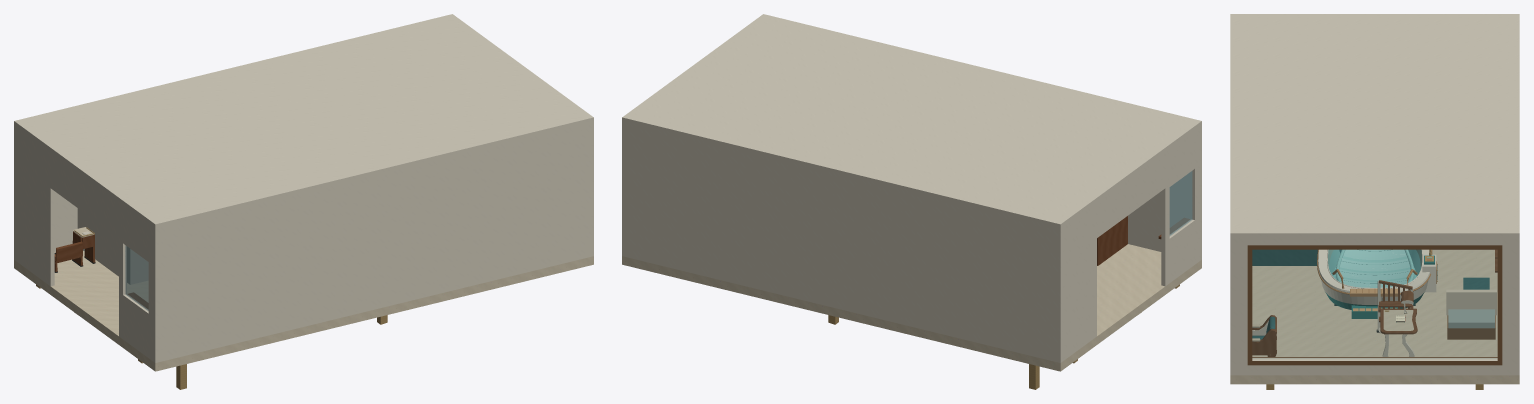
File: NG500_PanoramicSuite_r001.glb
3 views of the same model, side by side, from view 1: azimuth 30°, elevation 25°; view 2: azimuth 150°, elevation 25°; view 3: azimuth 270°, elevation 25° (orthographic). The views are drawn at different scales.
Parts seen in each view (by area): view 1: NG500_RuntimeBatch_001, NG500_RoomFloor, NG500_ScreenedStreetGlass, NG500_RuntimeBatch_013; view 2: NG500_RuntimeBatch_001, NG500_RoomFloor, NG500_ScreenedStreetGlass, NG500_RuntimeBatch_002; view 3: NG500_RuntimeBatch_001, NGP_500_PrivateViewPane, NG500_RoomFloor, NG500_ReservedRestSupport_01__WaterSurface_VisualOnly, NG500_ReservedRestSupport_01__Contoured broad immersed rest , NG500_ReservedRestSupport_01__Hollow continuous basin shell , NGP_500_Frame_Sill, NG500_RuntimeBatch_006, NGP_500_Frame_Head, NGP_500_ViewSeat_Back, NGP_500_ViewSeat_Cushion, NG500_RuntimeBatch_007 (+8 smaller).
Boxes of the visible parts, box(x1,y1,x2,y2) form: NG500_RuntimeBatch_001: box(14, 14, 593, 362); NG500_RoomFloor: box(14, 250, 593, 371); NG500_ScreenedStreetGlass: box(125, 245, 148, 310); NG500_RuntimeBatch_013: box(54, 231, 95, 271); NG500_RuntimeBatch_001: box(622, 14, 1201, 362); NG500_RoomFloor: box(622, 244, 1201, 371); NG500_ScreenedStreetGlass: box(1169, 171, 1192, 235); NG500_RuntimeBatch_002: box(1097, 216, 1190, 265); NG500_RuntimeBatch_001: box(1230, 14, 1519, 375); NGP_500_PrivateViewPane: box(1252, 250, 1497, 358); NG500_RoomFloor: box(1230, 250, 1519, 384); NG500_ReservedRestSupport_01__WaterSurface_VisualOnly: box(1329, 250, 1420, 287); NG500_ReservedRestSupport_01__Contoured broad immersed rest : box(1335, 249, 1414, 287); NG500_ReservedRestSupport_01__Hollow continuous basin shell : box(1318, 249, 1429, 309); NGP_500_Frame_Sill: box(1247, 357, 1502, 365); NG500_RuntimeBatch_006: box(1252, 249, 1489, 289); NGP_500_Frame_Head: box(1247, 245, 1502, 249); NGP_500_ViewSeat_Back: box(1446, 289, 1496, 315); NGP_500_ViewSeat_Cushion: box(1448, 309, 1494, 328); NG500_RuntimeBatch_007: box(1378, 280, 1417, 334).
Size of the model in its own units: 12.9 by 5.31 by 7.2.
Materials: 71 (49 with a texture image).
